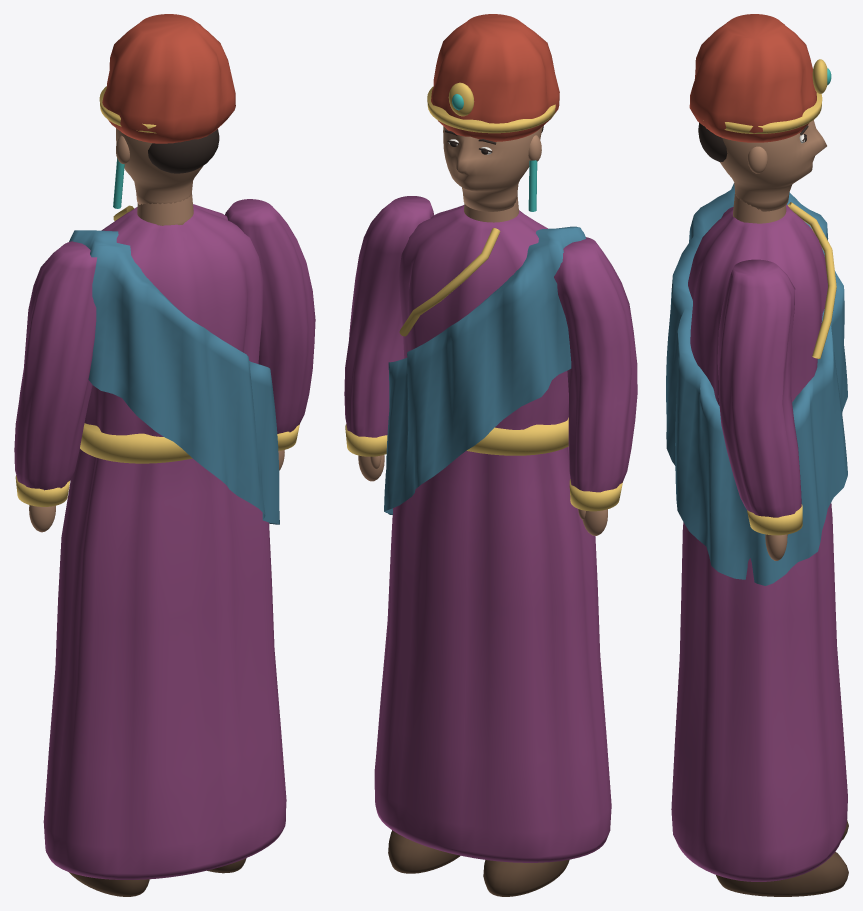
Rendered from King.fbx.
3 views of the same model, side by side, from view 1: azimuth 30°, elevation 25°; view 2: azimuth 150°, elevation 25°; view 3: azimuth 270°, elevation 25° (orthographic). The views are drawn at different scales.
Parts seen in each view (by area): view 1: King; view 2: King; view 3: King.
Part boxes in pixels (x1,y1,x2,y2): King: [14, 14, 315, 896]; King: [344, 14, 637, 896]; King: [666, 14, 848, 896].
Size of the model in its own units: 64.44 by 36.26 by 182.
